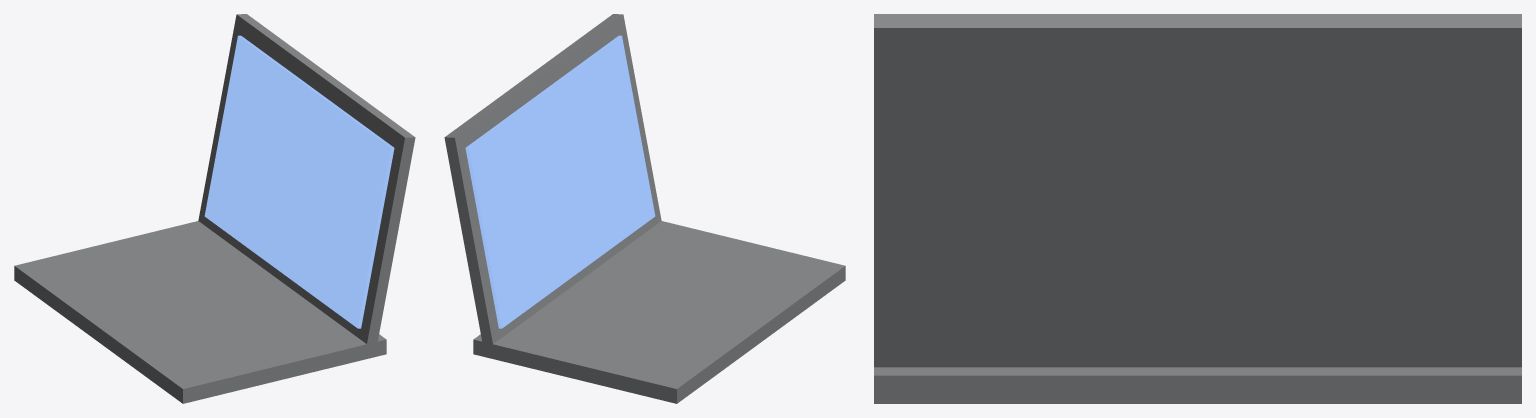
File: notebook.glb
3 renders of one model, left to right at view 1: azimuth 30°, elevation 25°; view 2: azimuth 150°, elevation 25°; view 3: azimuth 270°, elevation 25°, orthographic. The views are drawn at different scales.
Visible parts, largest first — view 1: I_Notebook_Base, I_Notebook_Tela_Acesa, I_Notebook_Tela; view 2: I_Notebook_Base, I_Notebook_Tela_Acesa, I_Notebook_Tela; view 3: I_Notebook_Tela, I_Notebook_Base.
Boxes of the visible parts, <box> form: I_Notebook_Base: <box>14,221,386,403</box>; I_Notebook_Tela_Acesa: <box>204,35,394,328</box>; I_Notebook_Tela: <box>198,14,415,346</box>; I_Notebook_Base: <box>473,221,845,403</box>; I_Notebook_Tela_Acesa: <box>465,35,655,328</box>; I_Notebook_Tela: <box>444,14,661,346</box>; I_Notebook_Tela: <box>874,14,1521,367</box>; I_Notebook_Base: <box>874,367,1521,403</box>.
Size of the model in its own units: 0.2627 by 0.229 by 0.33.
